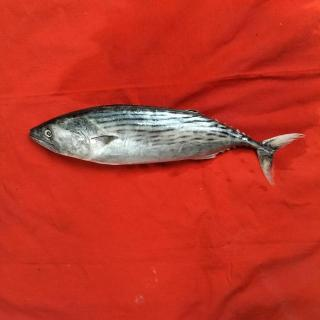Ikan: (28, 95, 308, 196)
